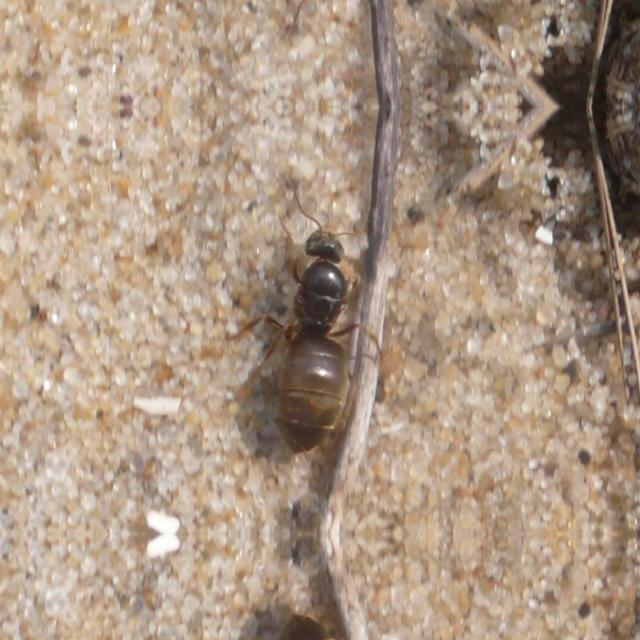Lasius: (236, 178, 394, 460)
